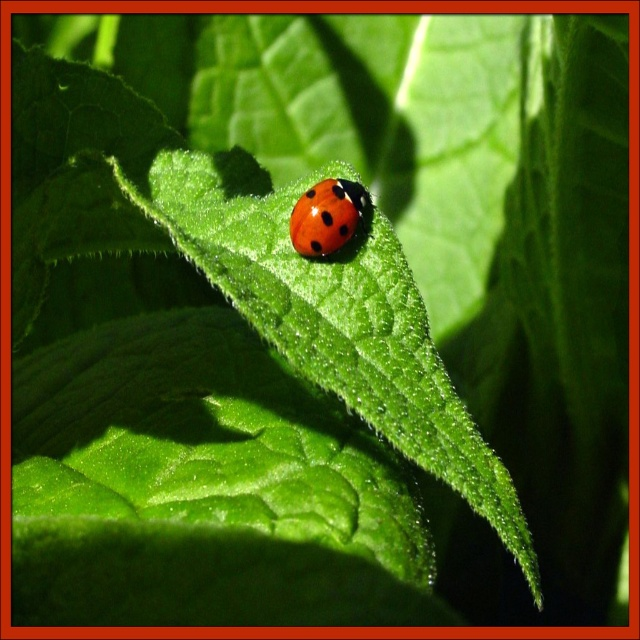Ladybug: (286, 173, 374, 265)
